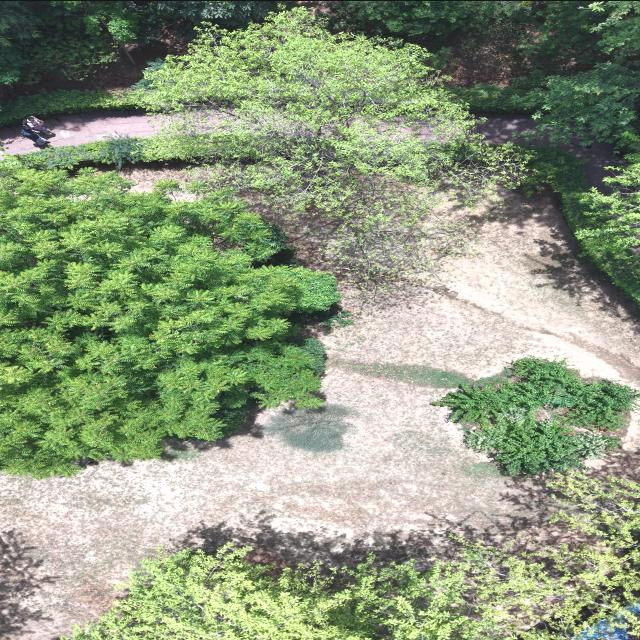DRY_AREA: (0, 193, 639, 639), (0, 368, 525, 639), (327, 193, 639, 386), (446, 194, 639, 385), (475, 114, 624, 193), (477, 114, 624, 192), (476, 114, 623, 192), (476, 114, 623, 191), (477, 115, 622, 188), (41, 110, 251, 146), (42, 109, 236, 146), (44, 110, 179, 146), (116, 163, 212, 199)
PATHWAYS: (477, 114, 623, 193), (476, 114, 623, 192)
VEGETATION_TREE: (0, 1, 639, 476), (1, 1, 639, 299), (2, 1, 639, 285), (34, 9, 523, 288), (137, 8, 524, 287), (0, 159, 337, 477), (65, 477, 639, 639), (336, 1, 639, 299), (22, 124, 521, 289), (331, 1, 639, 151), (334, 1, 639, 152), (72, 546, 476, 639), (461, 1, 639, 153), (433, 357, 639, 474), (0, 1, 276, 82), (523, 146, 639, 301), (331, 1, 540, 86), (453, 60, 639, 152), (20, 125, 257, 169), (569, 156, 639, 299), (0, 1, 118, 83), (336, 1, 539, 40), (0, 89, 133, 123), (265, 404, 353, 452), (148, 1, 277, 25), (0, 1, 38, 45)
